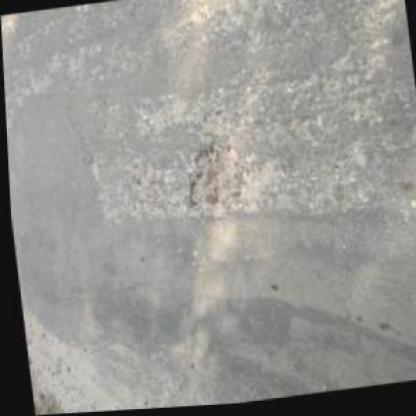pothole: (173, 134, 251, 228)
